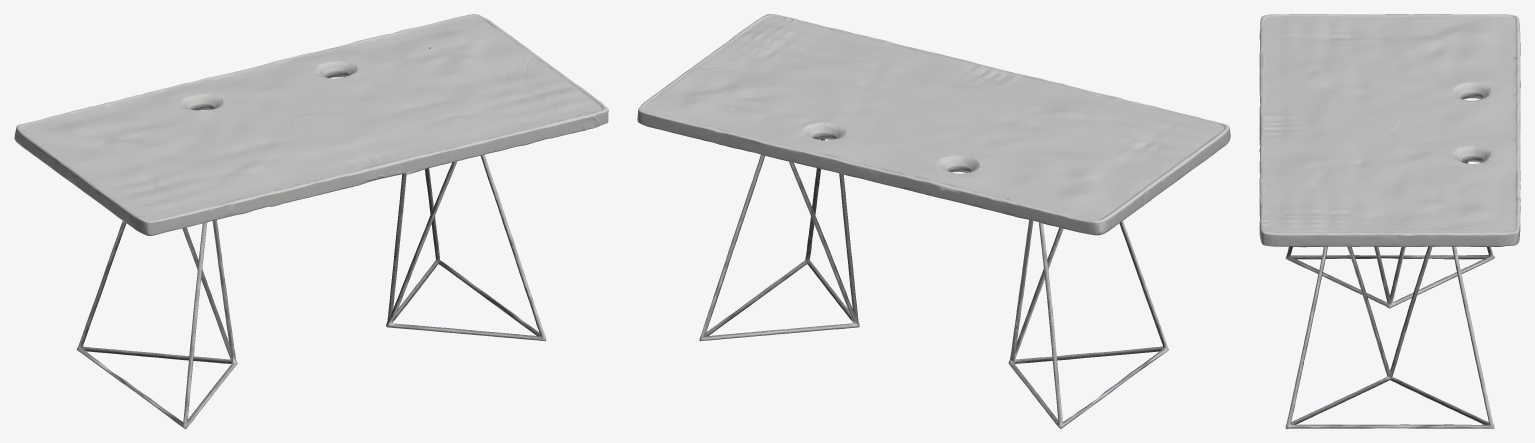
The picture shows the model from 3 angles, left to right: view 1: azimuth 30°, elevation 25°; view 2: azimuth 150°, elevation 25°; view 3: azimuth 270°, elevation 25°; orthographic projection. The views are drawn at different scales.
Parts seen in each view (by area): view 1: tripo_node_c2df3a9e-358b-4bf8-998b-60f7dffc23c8; view 2: tripo_node_c2df3a9e-358b-4bf8-998b-60f7dffc23c8; view 3: tripo_node_c2df3a9e-358b-4bf8-998b-60f7dffc23c8.
Part boxes in pixels (<box>): tripo_node_c2df3a9e-358b-4bf8-998b-60f7dffc23c8: <box>14,14,608,428</box>; tripo_node_c2df3a9e-358b-4bf8-998b-60f7dffc23c8: <box>637,14,1230,428</box>; tripo_node_c2df3a9e-358b-4bf8-998b-60f7dffc23c8: <box>1259,14,1520,428</box>.
Size of the model in its own units: 1.6 by 0.75 by 0.8.
Materials: 1 (1 with a texture image).
